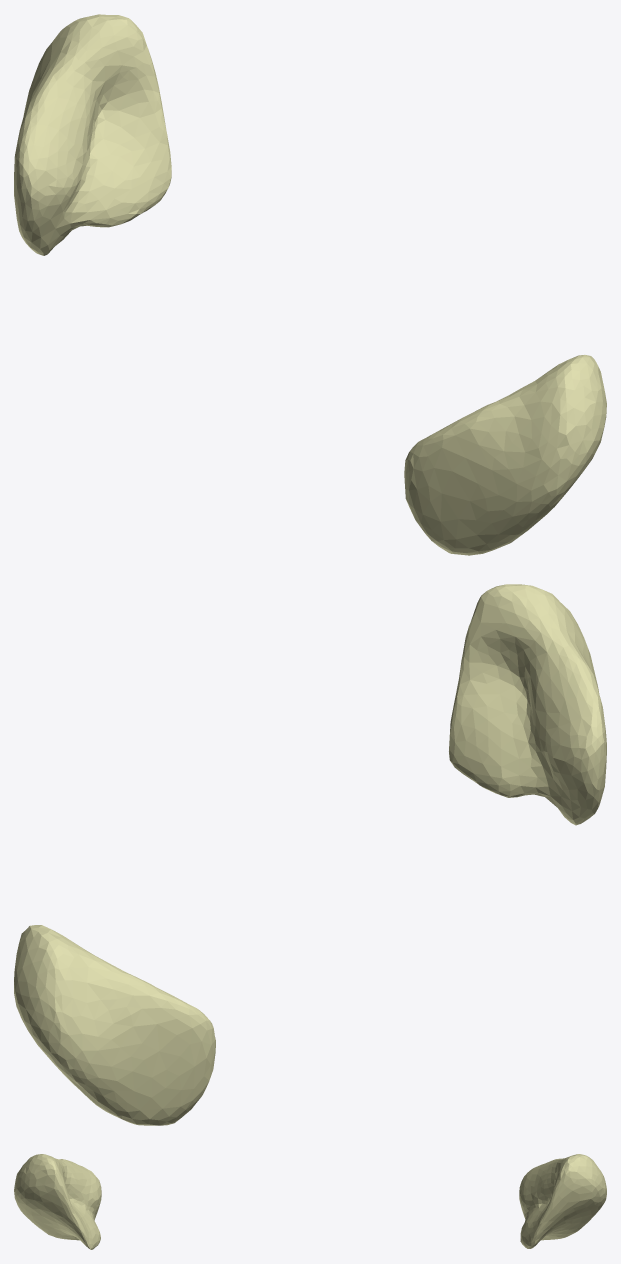
The picture shows the model from 3 angles, top to bottom: view 1: azimuth 30°, elevation 25°; view 2: azimuth 150°, elevation 25°; view 3: azimuth 270°, elevation 25°; orthographic projection. The views are drawn at different scales.
Visible parts, largest first — view 1: 1049.obj; view 2: 1049.obj; view 3: 1049.obj.
Part boxes in pixels (x1=…): 1049.obj: x1=14, y1=14, x2=606, y2=555; 1049.obj: x1=14, y1=584, x2=606, y2=1125; 1049.obj: x1=14, y1=1154, x2=606, y2=1249.
Size of the model in its own units: 1319 by 1499 by 7439.
